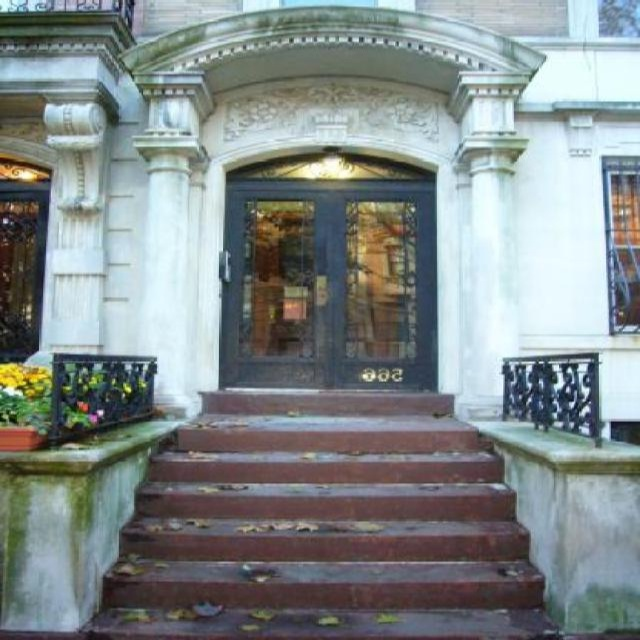stair: (77, 389, 566, 640)
